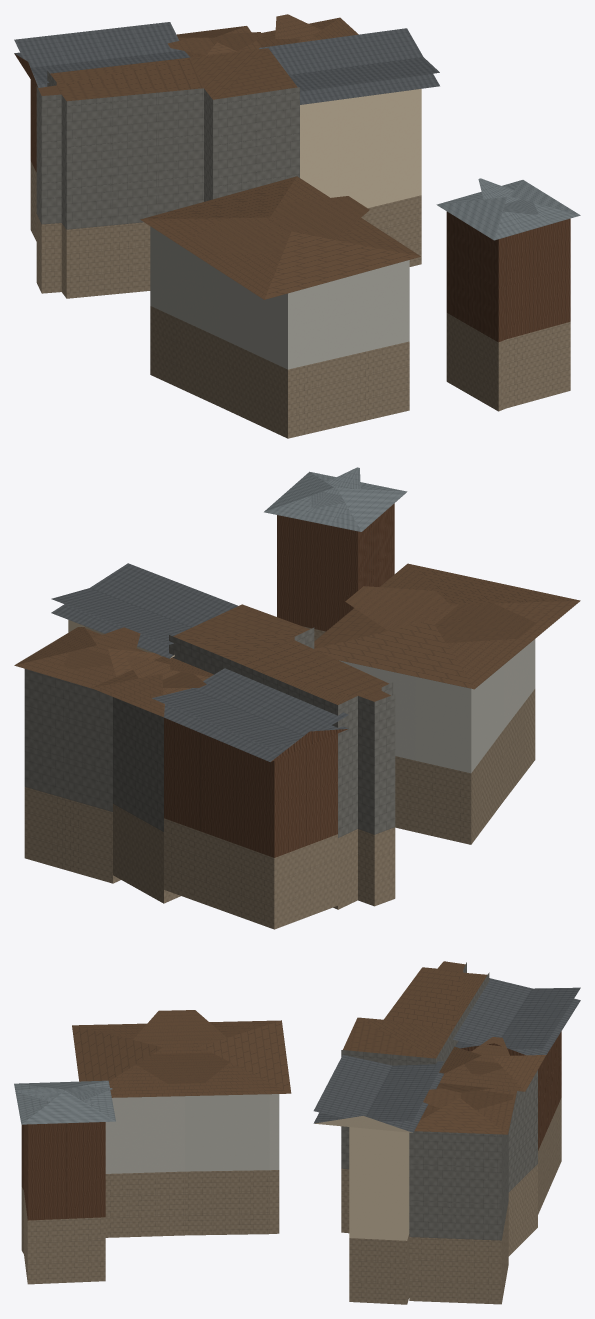
The model's file is bld_c32_46_240.gltf.
3 renders of one model, top to bottom at view 1: azimuth 30°, elevation 25°; view 2: azimuth 150°, elevation 25°; view 3: azimuth 270°, elevation 25°, orthographic. The views are drawn at different scales.
Parts seen in each view (by area): view 1: bld_c32_46_240; view 2: bld_c32_46_240; view 3: bld_c32_46_240.
Part boxes in pixels (<box>): bld_c32_46_240: <box>14,14,580,438</box>; bld_c32_46_240: <box>14,467,580,929</box>; bld_c32_46_240: <box>14,961,580,1304</box>.
Bounding box in the file's own units: 26.95 × 15.98 × 41.01.
Materials: 11 (11 with a texture image).
